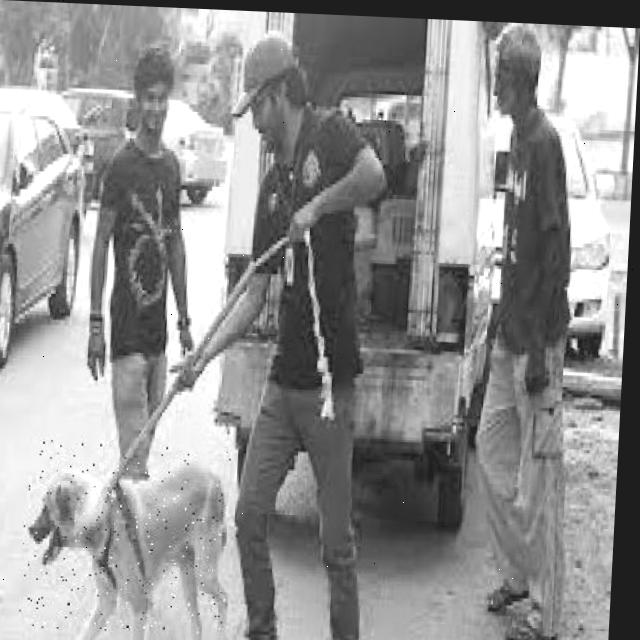Dog: (18, 438, 236, 638)
